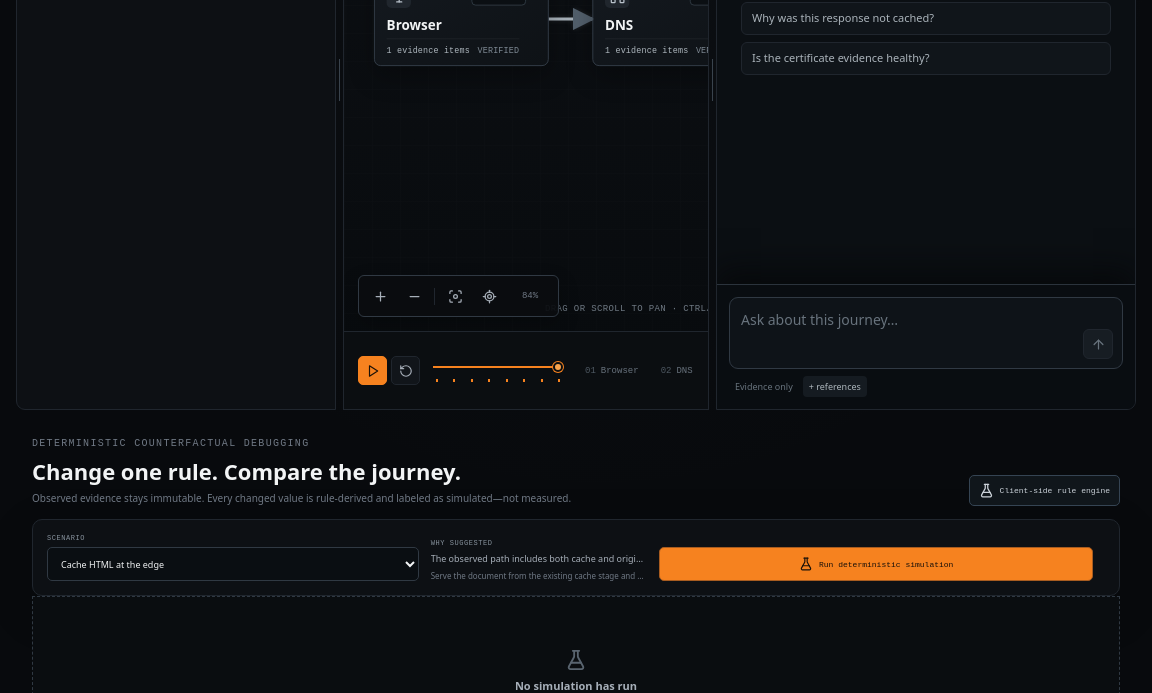
Test: journey workspace integration › applies validated AI emphasis and navigates to cited evidence
(page scrolled)
Type "What is the likely bottleneck?" into the text box named "Ask about this investigation" at [908, 333], box [739,307,1076,359]
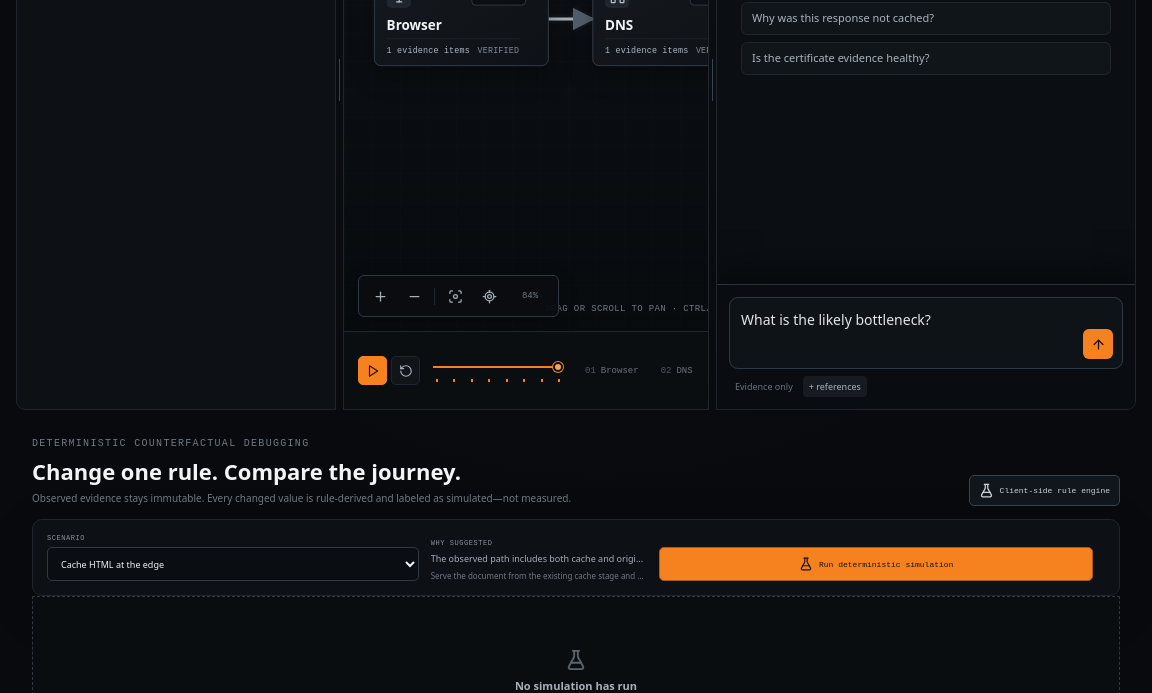
Click the button named "Submit question" at [1098, 344], box [1083,329,1113,359]
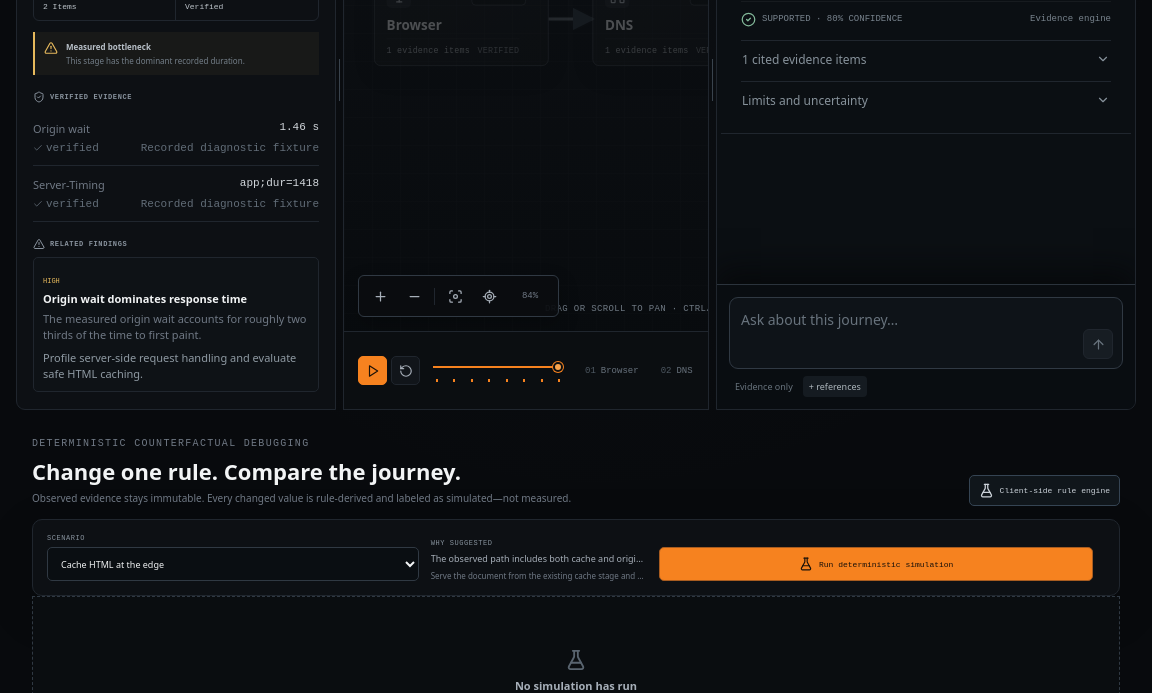
Result: the text "1.46 s" is shown at [279,121,319,136]
